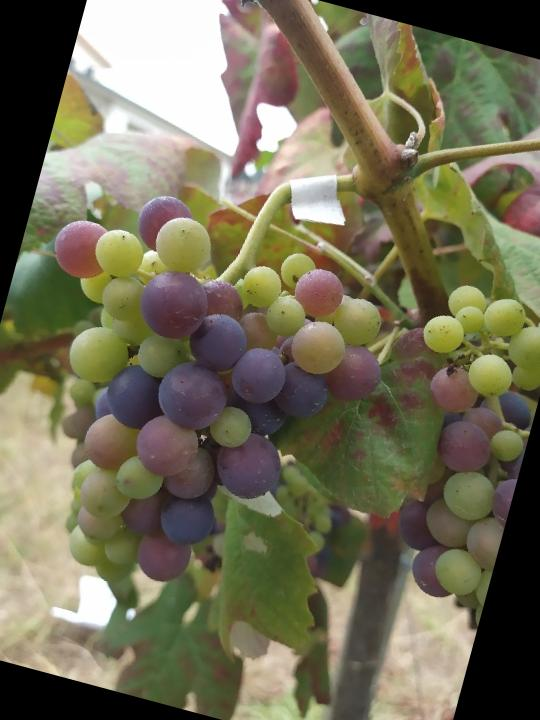grape: (0, 166, 414, 637), (349, 273, 540, 633)
